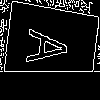A: (25, 29, 81, 69)
